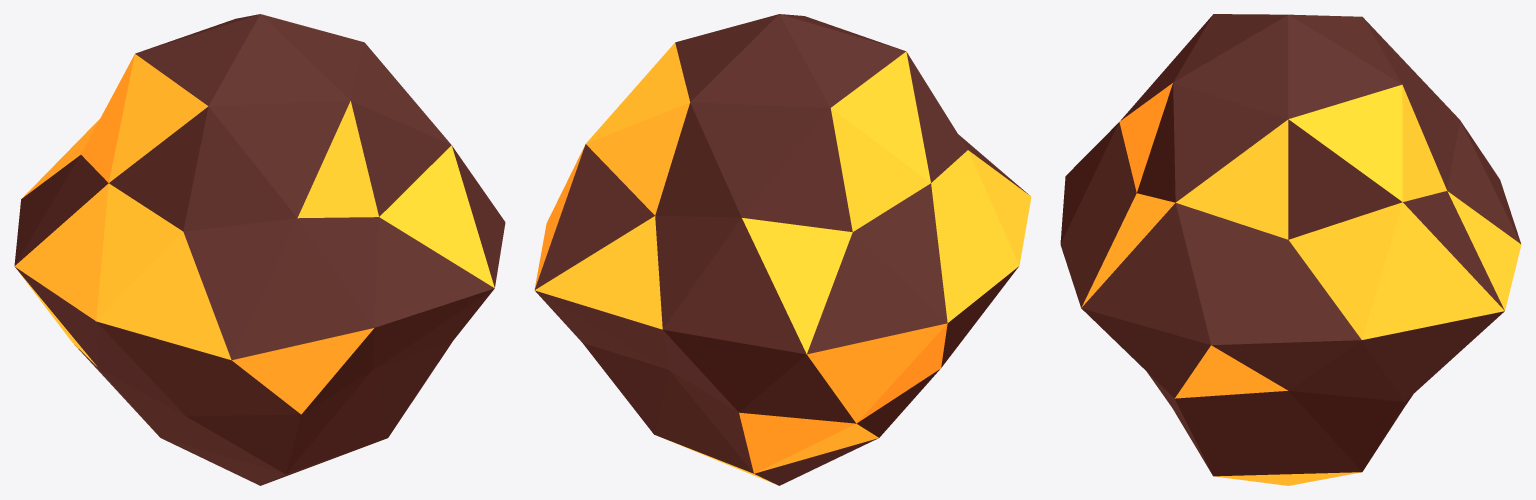
Rendered from boulder.glb.
3 renders of one model, left to right at view 1: azimuth 30°, elevation 25°; view 2: azimuth 150°, elevation 25°; view 3: azimuth 270°, elevation 25°, orthographic.
Visible parts, largest first — view 1: RockMesh; view 2: RockMesh; view 3: RockMesh.
Boxes of the visible parts, bbox=[...] form: RockMesh: bbox=[14, 14, 505, 485]; RockMesh: bbox=[534, 14, 1031, 485]; RockMesh: bbox=[1060, 14, 1521, 485].
Bounding box in the file's own units: 1.74 × 1.89 × 1.68.
